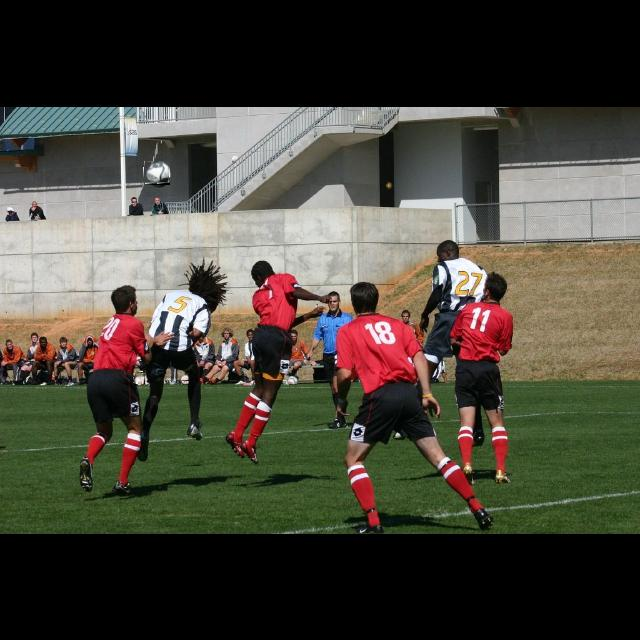Football: (144, 161, 170, 185), (286, 370, 298, 384), (133, 372, 145, 384), (177, 373, 189, 381)
